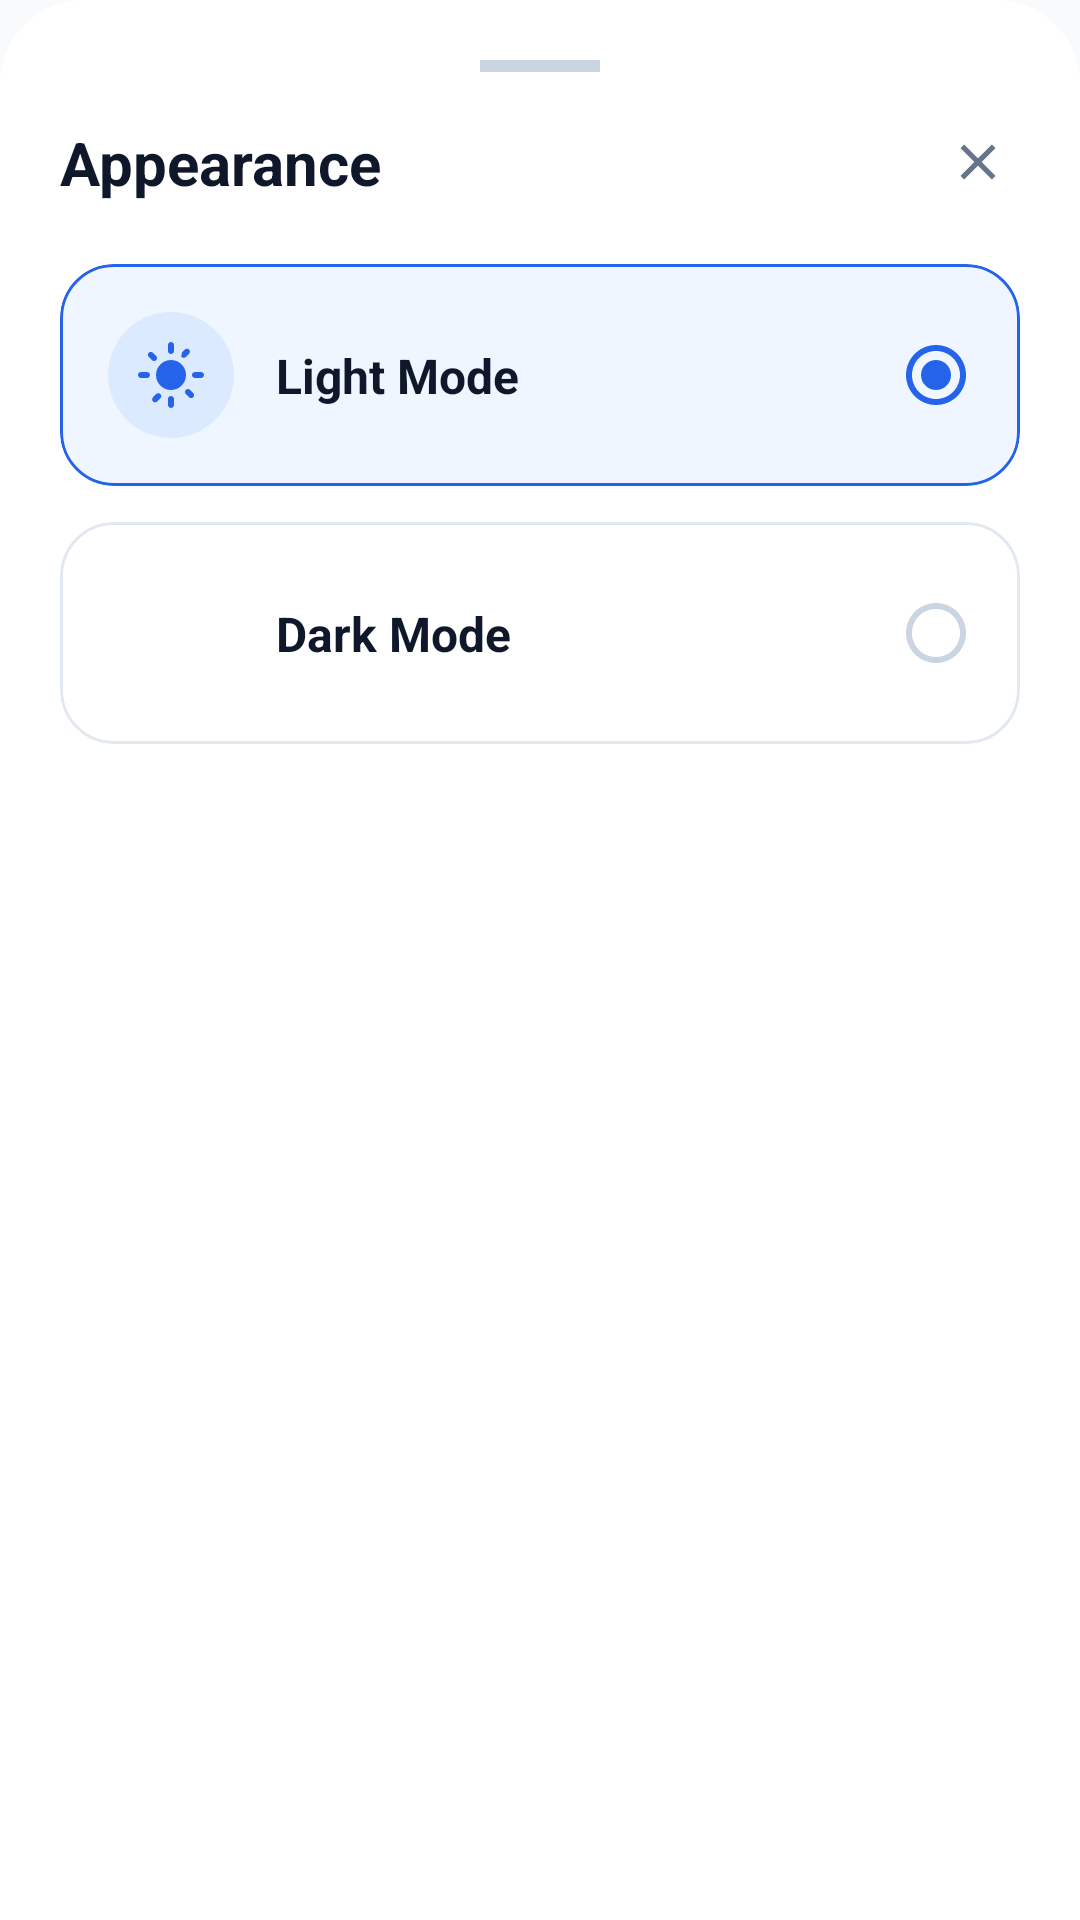

Screen size 1080px x 1920px. Icon name, then its center in pixels as point (x, y):
Close: point (978, 162)
radio checked: point (936, 375)
radio unchecked: point (936, 633)
sun: point (171, 375)
